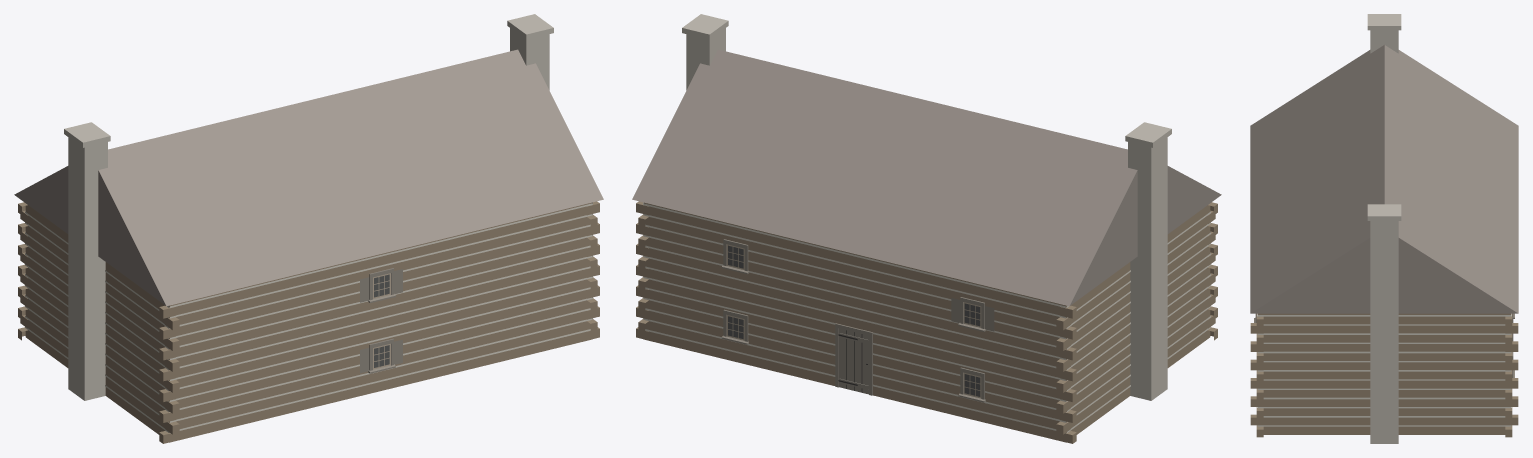
Rendered from first_fort_outer_factory__first_fort_1803.glb.
3 renders of one model, left to right at view 1: azimuth 30°, elevation 25°; view 2: azimuth 150°, elevation 25°; view 3: azimuth 270°, elevation 25°, orthographic. The views are drawn at different scales.
Visible parts, largest first — view 1: first_fort_outer_factory__first_fort_1803; view 2: first_fort_outer_factory__first_fort_1803; view 3: first_fort_outer_factory__first_fort_1803.
Boxes of the visible parts, x1,y1,x2,y2 form: first_fort_outer_factory__first_fort_1803: (14,14,603,443); first_fort_outer_factory__first_fort_1803: (632,14,1221,443); first_fort_outer_factory__first_fort_1803: (1250,14,1518,443).
Bounding box in the file's own units: 16.06 × 8.47 × 9.
